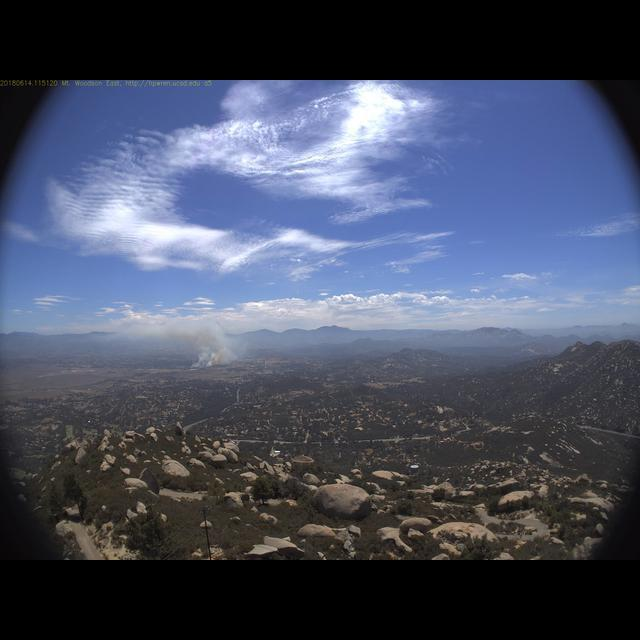Smoke: (186, 315, 260, 370)
